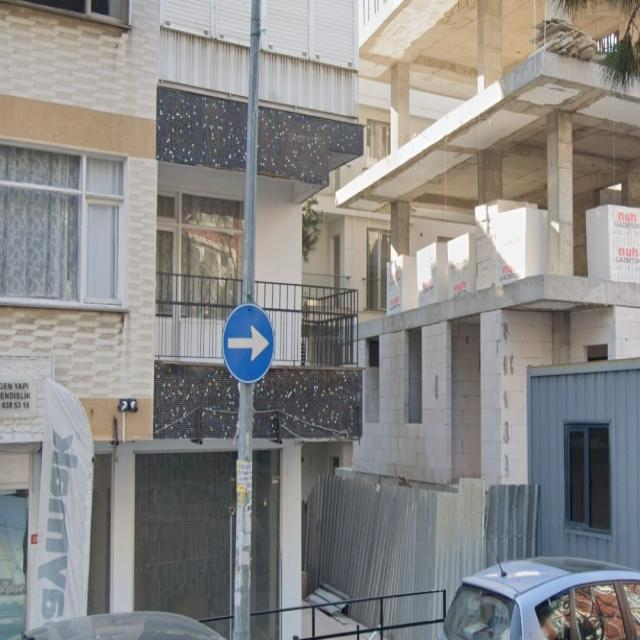Turn Right: (221, 304, 274, 383)
